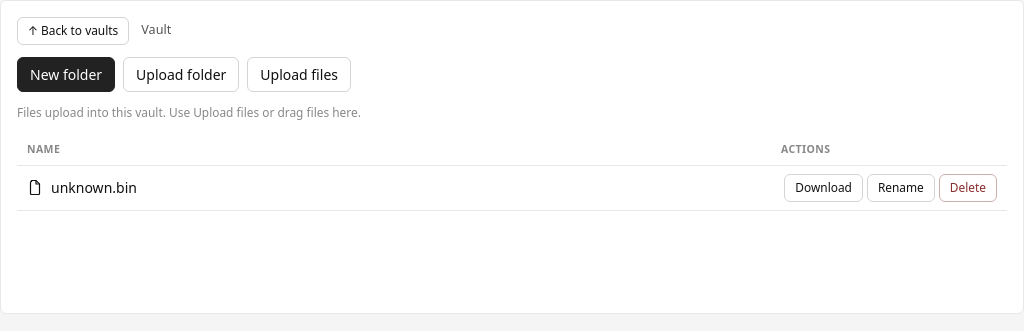
Scenario: VaultContents mutation identity › rejects a download when metadata cannot prove its size
The width and height of the screenshot is (1024, 331).
Click the button with test id "download-file": (824, 188) [784,174,863,202]
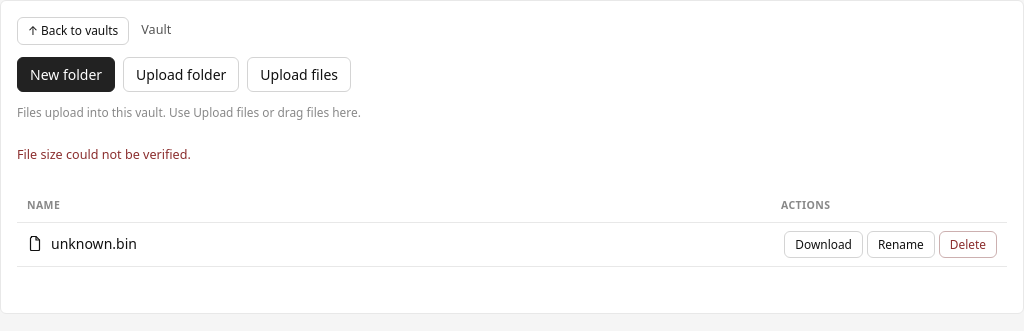
expect the text with test id "vault-detail-error" reads "File size could not be verified.": met, box [17,146,191,163]
